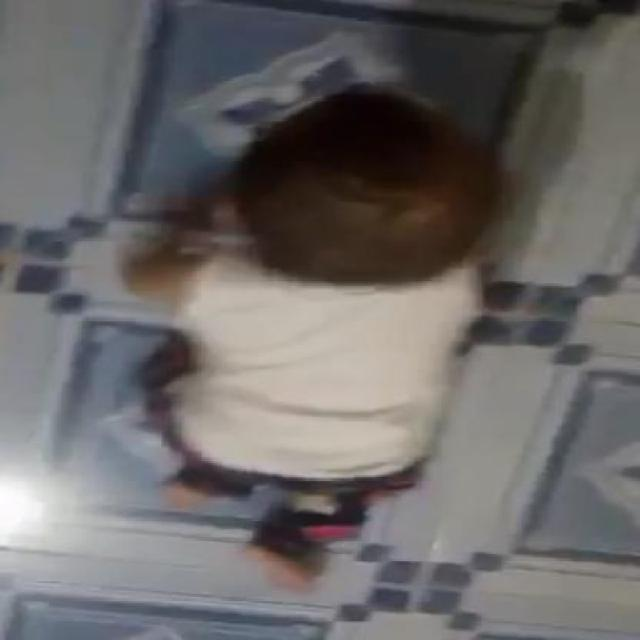baby: (126, 85, 516, 584)
